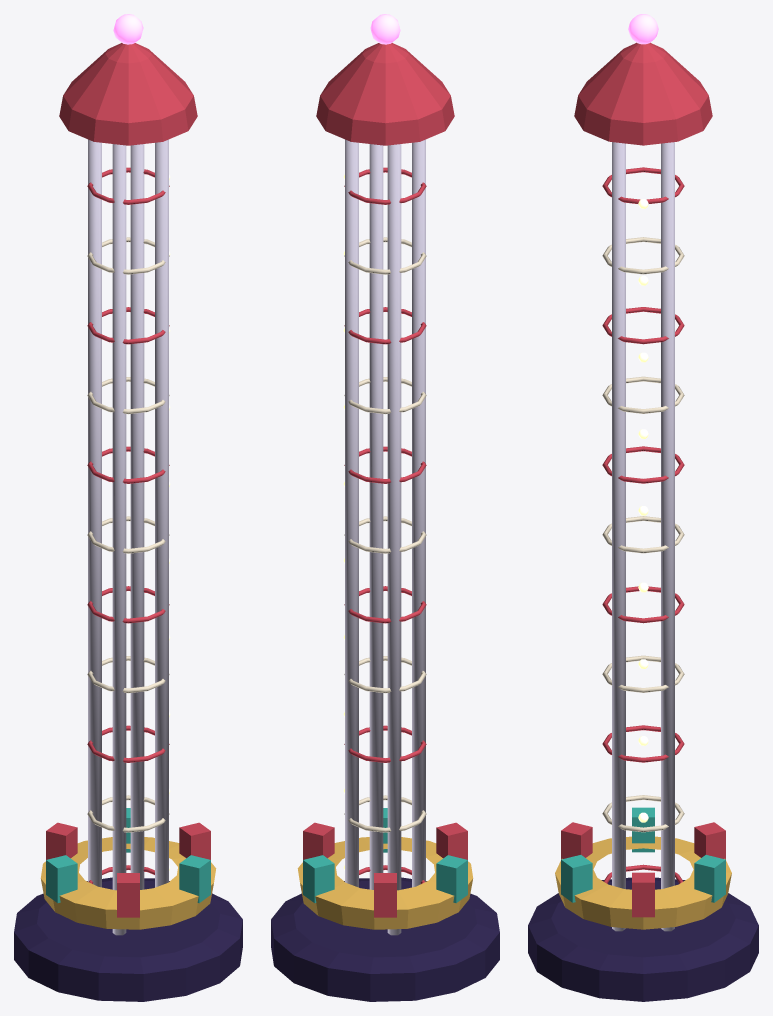
The model's file is drop-tower.glb.
The picture shows the model from 3 angles, left to right: view 1: azimuth 30°, elevation 25°; view 2: azimuth 150°, elevation 25°; view 3: azimuth 270°, elevation 25°; orthographic projection.
Parts seen in each view (by area): view 1: base, leg-2, leg-0, cap, leg-3, leg-1, seat-ring, chair-3, chair-5, chair-4, chair-0, chair-2 (+11 smaller); view 2: base, leg-1, leg-3, cap, leg-0, leg-2, seat-ring, chair-3, chair-1, chair-2, chair-0, chair-4 (+11 smaller); view 3: base, cap, leg-0, leg-3, seat-ring, chair-1, chair-5, chair-0, chair-2, chair-4, chair-3, beacon (+10 smaller).
Boxes of the visible parts, <box> form: base: <box>14,877,242,1001</box>; leg-2: <box>112,144,126,935</box>; leg-0: <box>130,144,144,889</box>; cap: <box>59,43,197,145</box>; leg-3: <box>155,139,168,887</box>; leg-1: <box>88,139,101,887</box>; seat-ring: <box>40,837,216,929</box>; chair-3: <box>46,855,77,903</box>; chair-5: <box>179,855,210,903</box>; chair-4: <box>117,873,139,917</box>; chair-0: <box>179,822,210,859</box>; chair-2: <box>46,822,77,859</box>; base: <box>271,877,499,1001</box>; leg-1: <box>387,144,401,935</box>; leg-3: <box>369,144,383,889</box>; cap: <box>316,43,454,145</box>; leg-0: <box>345,139,358,887</box>; leg-2: <box>412,139,425,887</box>; seat-ring: <box>297,837,473,929</box>; chair-3: <box>436,855,467,903</box>; chair-1: <box>303,855,334,903</box>; chair-2: <box>374,873,396,917</box>; chair-0: <box>303,822,334,859</box>; chair-4: <box>436,822,467,859</box>; base: <box>528,877,758,1001</box>; cap: <box>574,42,712,145</box>; leg-0: <box>661,142,674,931</box>; leg-3: <box>612,142,625,931</box>; seat-ring: <box>555,836,731,929</box>; chair-1: <box>694,855,725,902</box>; chair-5: <box>561,855,592,902</box>; chair-0: <box>632,872,654,917</box>; chair-2: <box>694,822,725,859</box>; chair-4: <box>561,822,592,859</box>; chair-3: <box>632,807,654,852</box>; beacon: <box>628,14,658,44</box>.
Size of the model in its own units: 3 by 13.45 by 3.
